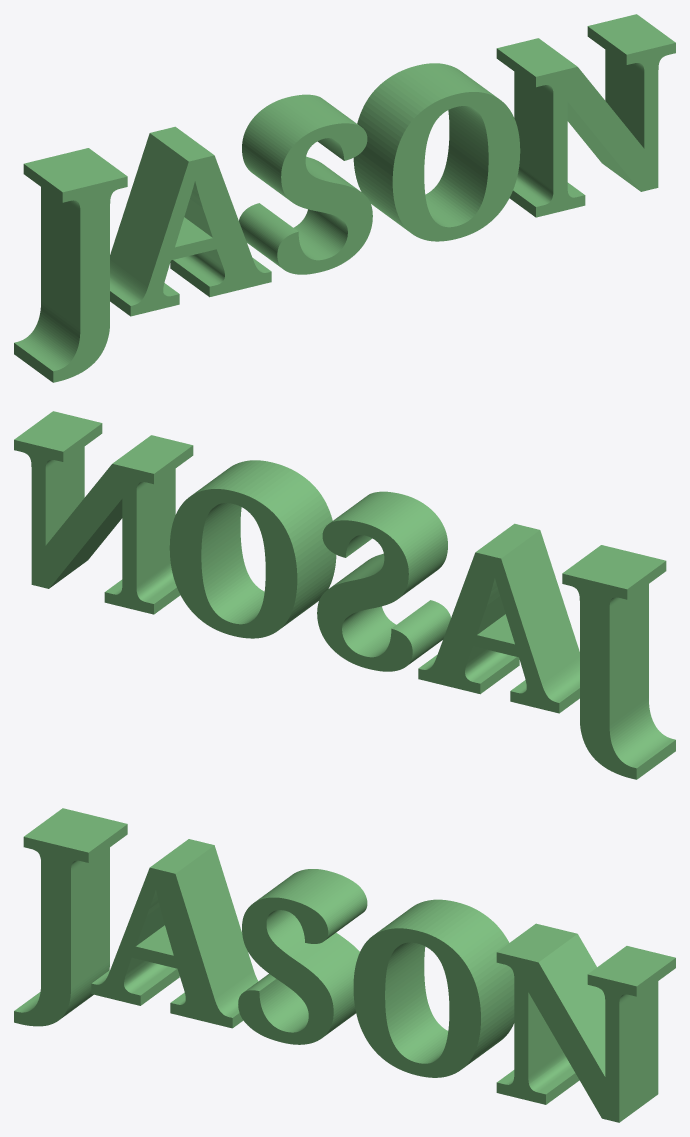
File: Name.glb
3 views of the same model, one above another, from view 1: azimuth 30°, elevation 25°; view 2: azimuth 150°, elevation 25°; view 3: azimuth 330°, elevation 25° (orthographic).
Visible parts, largest first — view 1: Mesh_Mesh_head_geo.001_lambert2SG.001; view 2: Mesh_Mesh_head_geo.001_lambert2SG.001; view 3: Mesh_Mesh_head_geo.001_lambert2SG.001.
Boxes of the visible parts, box(x1,y1,x2,y2) form: Mesh_Mesh_head_geo.001_lambert2SG.001: box(14, 14, 675, 382); Mesh_Mesh_head_geo.001_lambert2SG.001: box(14, 411, 675, 779); Mesh_Mesh_head_geo.001_lambert2SG.001: box(14, 808, 675, 1122).
Bounding box in the file's own units: 0.0918 × 0.0268 × 0.01.
